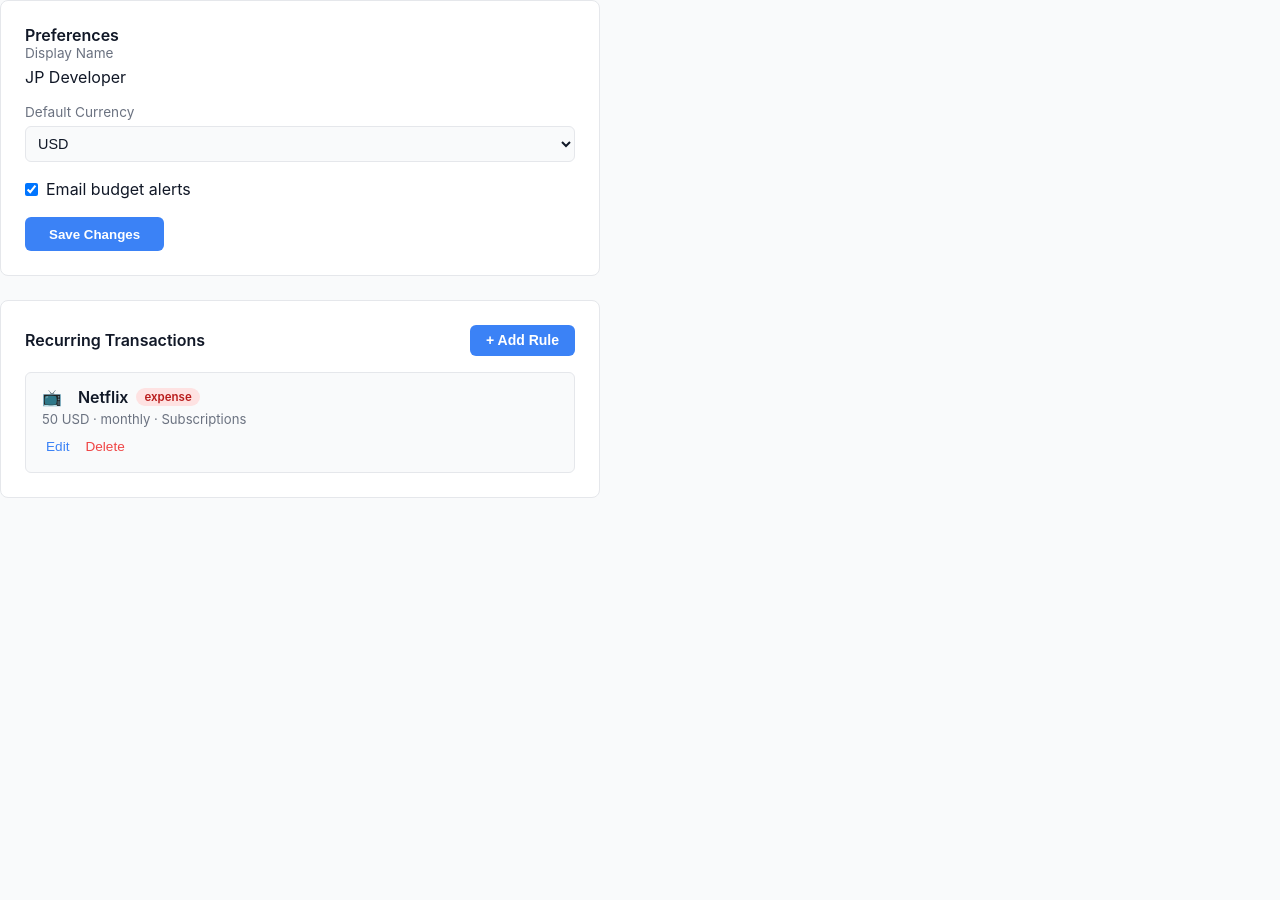
it: SettingsPage › opens modal when Add Rule is clicked
Click the button "+ Add Rule". click: (522, 340)
box: [470, 325, 575, 356]
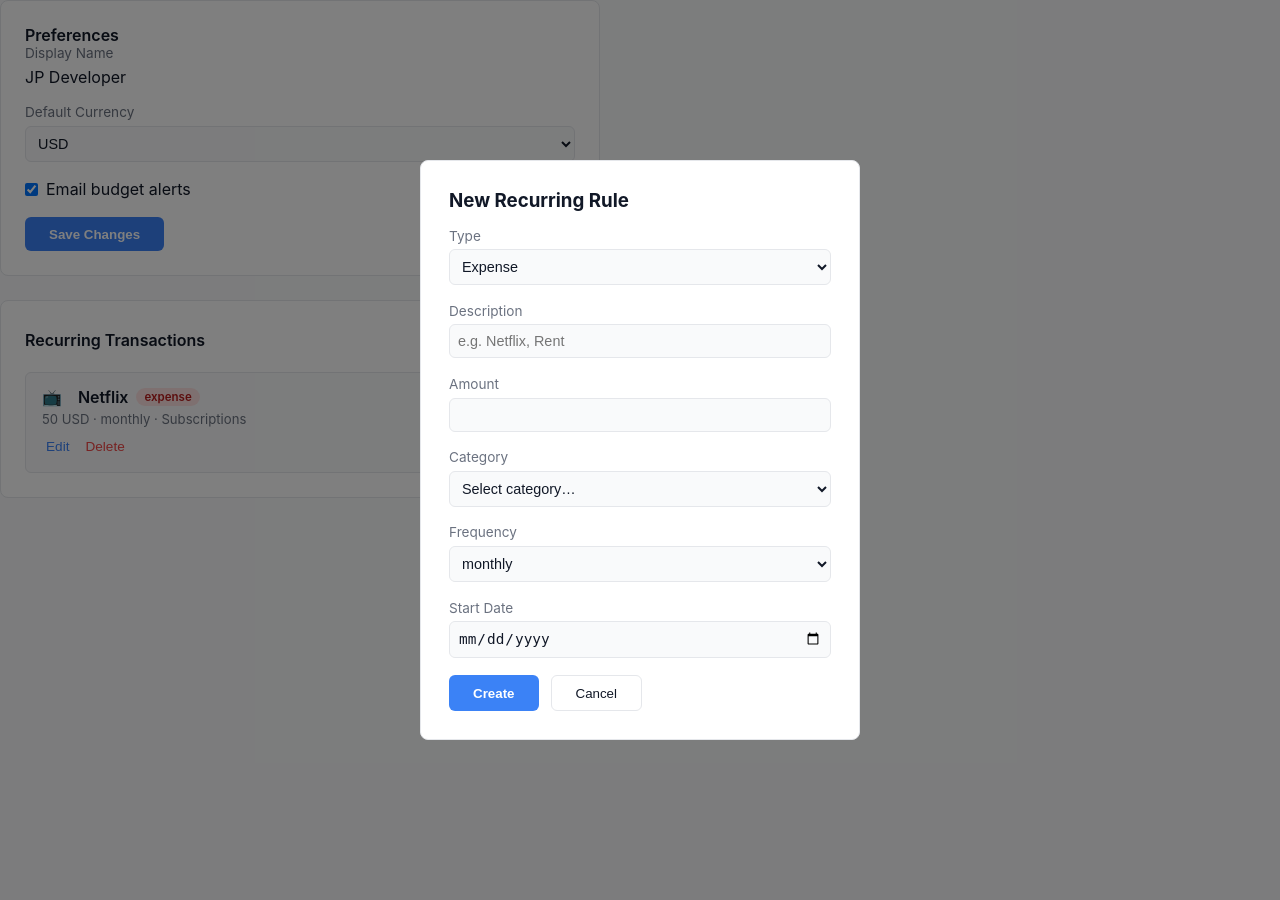
Expected: the heading "New Recurring Rule" is shown, [449, 189, 629, 212]
